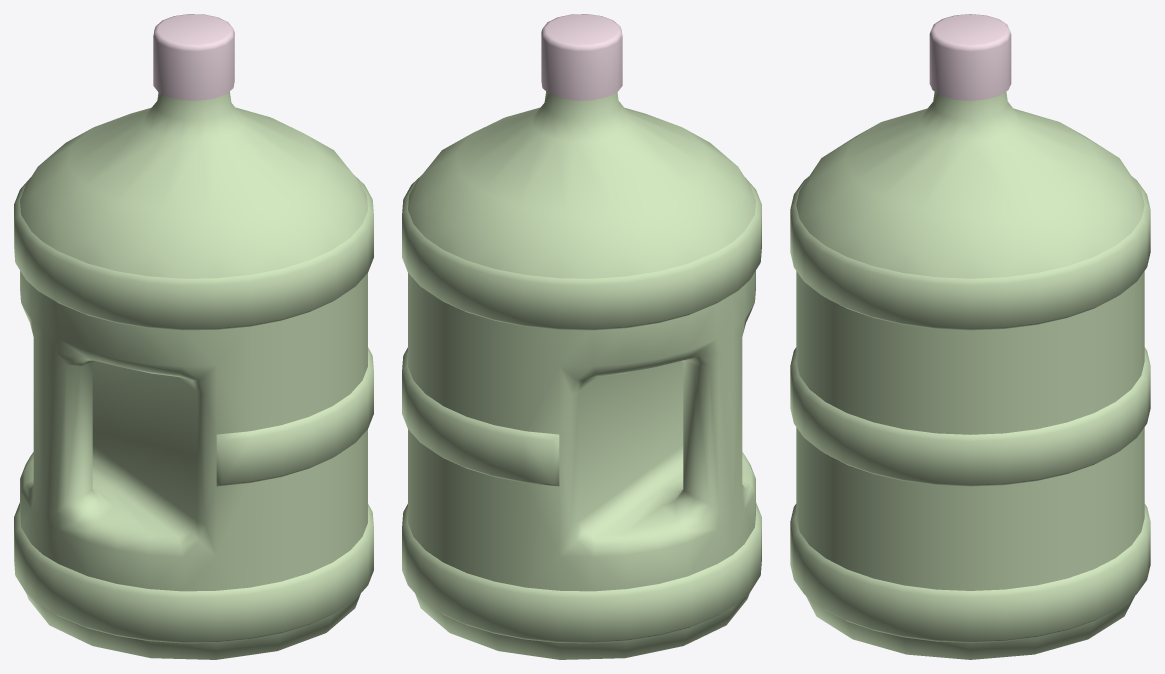
The model's file is water_jug.fbx.
3 renders of one model, left to right at view 1: azimuth 30°, elevation 25°; view 2: azimuth 150°, elevation 25°; view 3: azimuth 270°, elevation 25°, orthographic.
Parts seen in each view (by area): view 1: bottle; view 2: bottle; view 3: bottle.
Part boxes in pixels (<box>): bottle: <box>14,14,373,659</box>; bottle: <box>402,14,761,659</box>; bottle: <box>790,14,1150,659</box>.
Size of what is drawn, in the model's own units: 1553 by 2694 by 1553.
